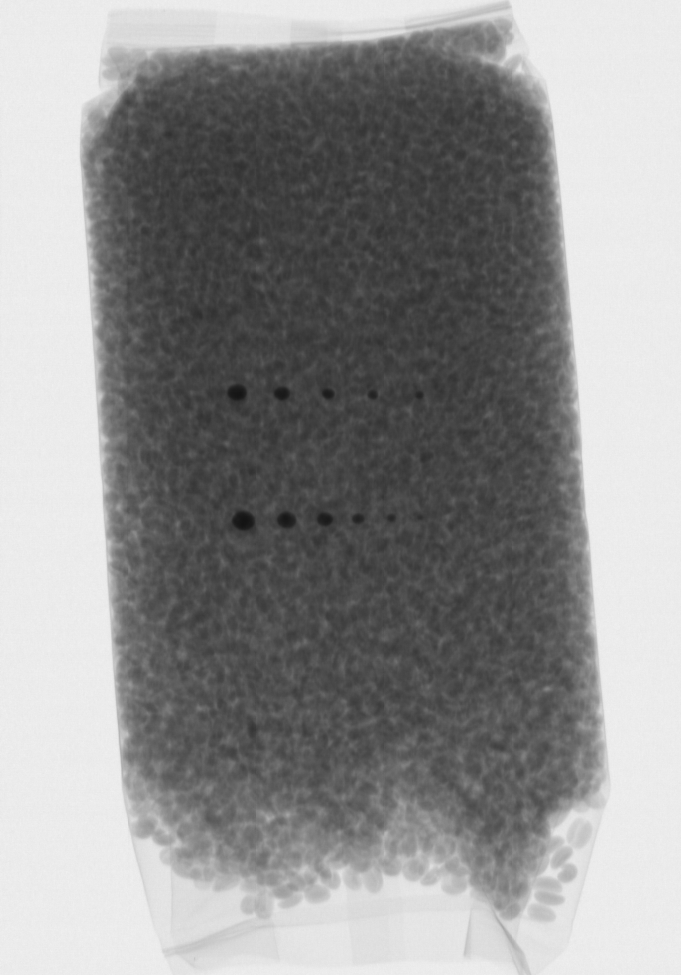glass: (227, 504, 258, 533), (224, 377, 248, 403), (267, 384, 295, 405), (275, 511, 298, 532), (316, 507, 335, 528), (367, 385, 387, 402), (411, 385, 431, 402), (386, 510, 404, 528), (317, 384, 335, 400), (348, 511, 365, 527)
glass_area: (218, 366, 447, 420), (218, 496, 424, 545)
